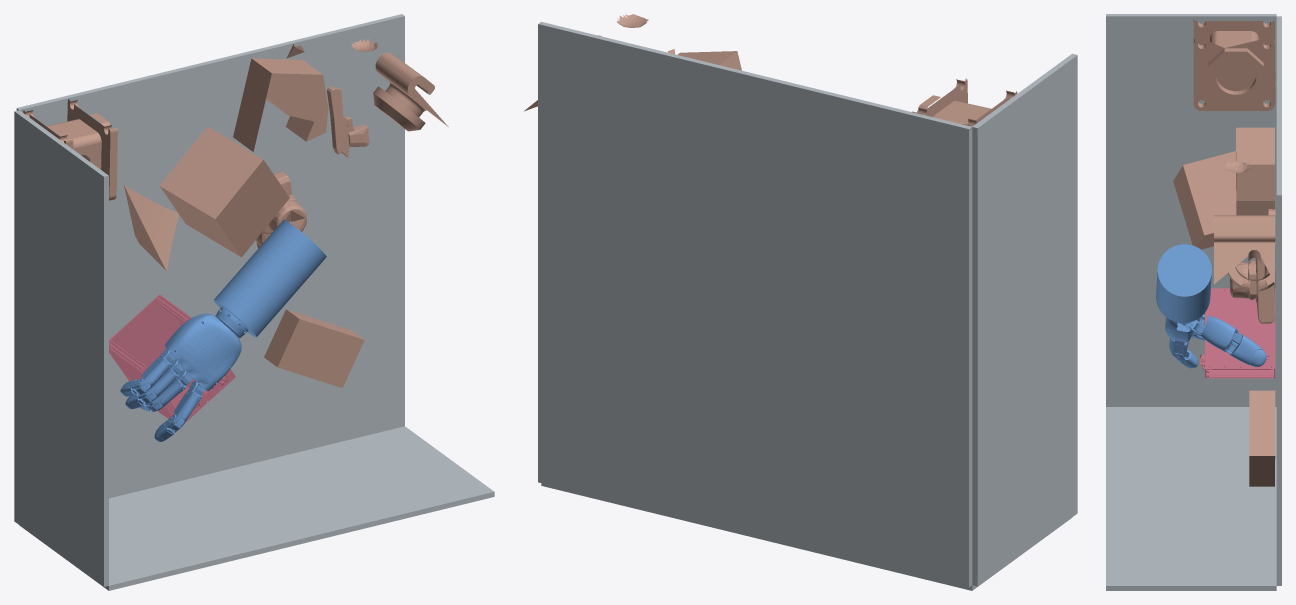
3 views of the same model, side by side, from view 1: azimuth 30°, elevation 25°; view 2: azimuth 150°, elevation 25°; view 3: azimuth 270°, elevation 25° (orthographic). The views are drawn at different scales.
Visible parts, largest first — view 1: environment, hand, obstacle_004, obstacle_009, obstacle_001, world, obstacle_006, obstacle_008, obstacle_005, obstacle_007, obstacle_003; view 2: environment, obstacle_006, obstacle_009; view 3: environment, obstacle_006, hand, obstacle_004, world, obstacle_008, obstacle_009, obstacle_001, obstacle_003.
Part boxes in pixels (x1,y1,x2,y2): environment: (14,14,494,590); hand: (120,219,326,441); obstacle_004: (159,126,289,257); obstacle_009: (233,58,328,151); obstacle_001: (264,309,364,388); world: (109,294,235,422); obstacle_006: (23,99,117,200); obstacle_008: (373,52,448,131); obstacle_005: (124,184,178,270); obstacle_007: (326,86,369,157); obstacle_003: (255,171,306,248); environment: (538,22,1077,590); obstacle_006: (912,78,1017,126); obstacle_009: (677,51,741,70); environment: (1106,14,1281,590); obstacle_006: (1193,18,1275,110); hand: (1156,244,1266,368); obstacle_004: (1173,151,1236,249); world: (1197,288,1275,378); obstacle_008: (1214,215,1275,290); obstacle_009: (1236,127,1274,215); obstacle_001: (1249,390,1275,486); obstacle_003: (1230,256,1275,323).
Bounding box in the file's own units: 0.6602 × 0.6601 × 0.2592.
